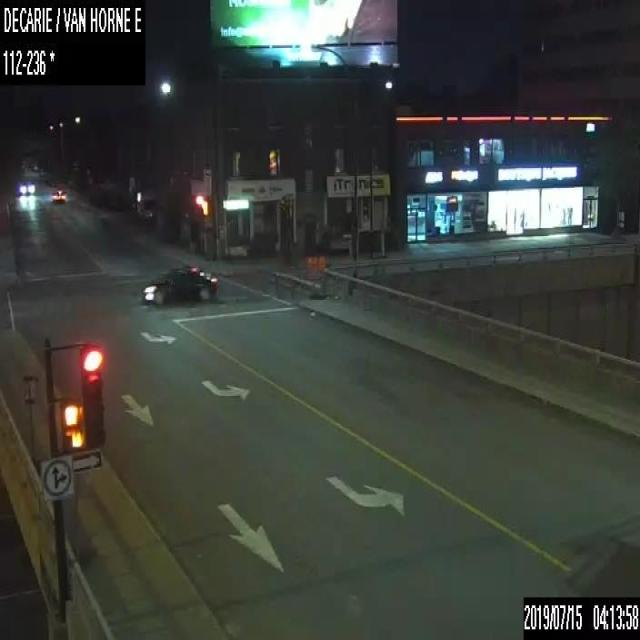construction: (20, 375, 47, 476), (302, 254, 316, 298), (317, 253, 326, 298)
vehicle: (141, 264, 219, 304), (135, 188, 154, 224), (18, 179, 36, 195), (51, 188, 66, 203)
